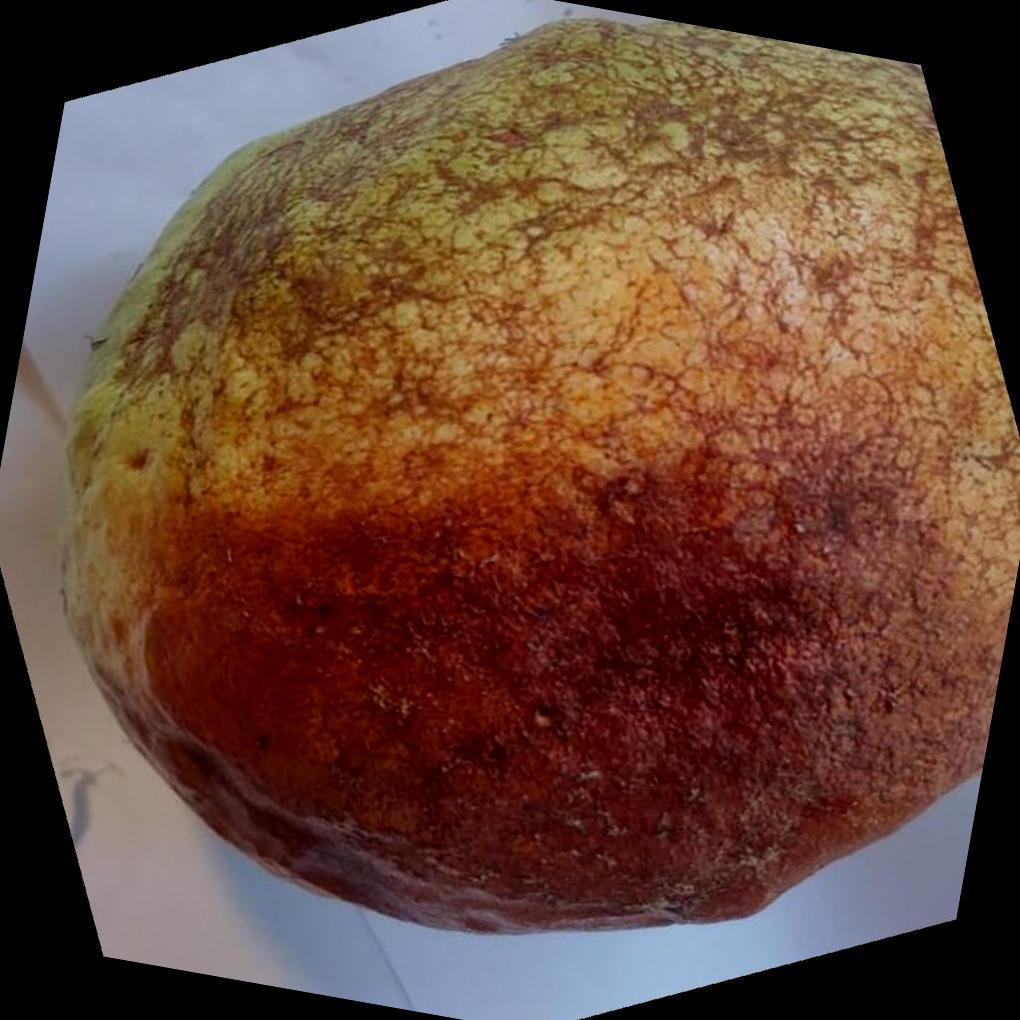FreshOrange: (55, 18, 1020, 940)
